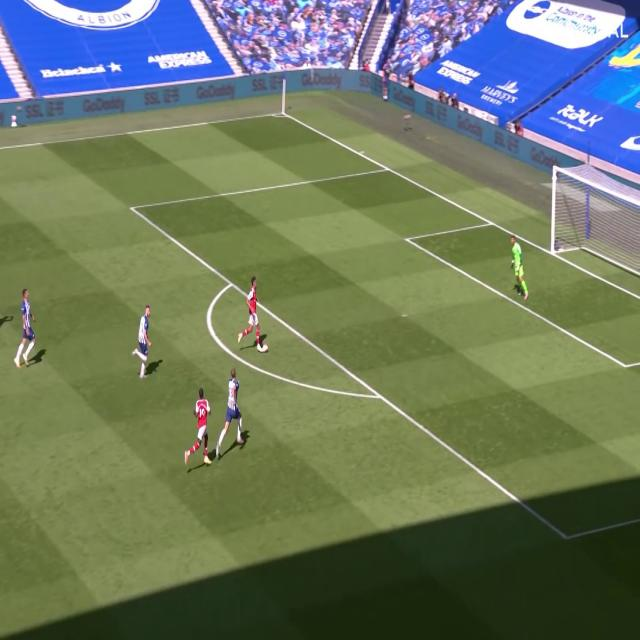Ball: (260, 336, 269, 354)
GoalKeeper: (510, 237, 528, 300)
TEAM 1: (243, 276, 267, 351), (188, 388, 210, 466)
TEAM 2: (217, 368, 246, 450), (17, 288, 38, 366), (136, 306, 152, 377)
